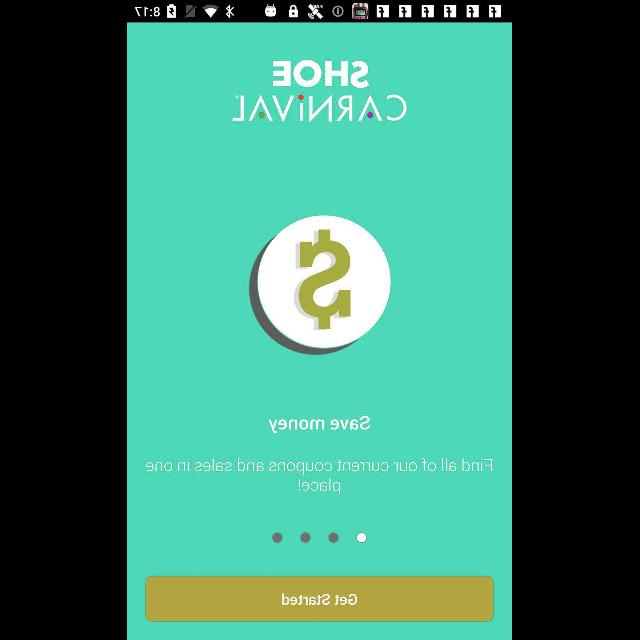image: (250, 215, 392, 355), (232, 60, 408, 122)
pageindicator: (272, 532, 368, 544)
text: (146, 458, 494, 494), (268, 416, 372, 434)
textbutton: (146, 576, 494, 622)
uppertaskbar: (128, 1, 512, 23)
